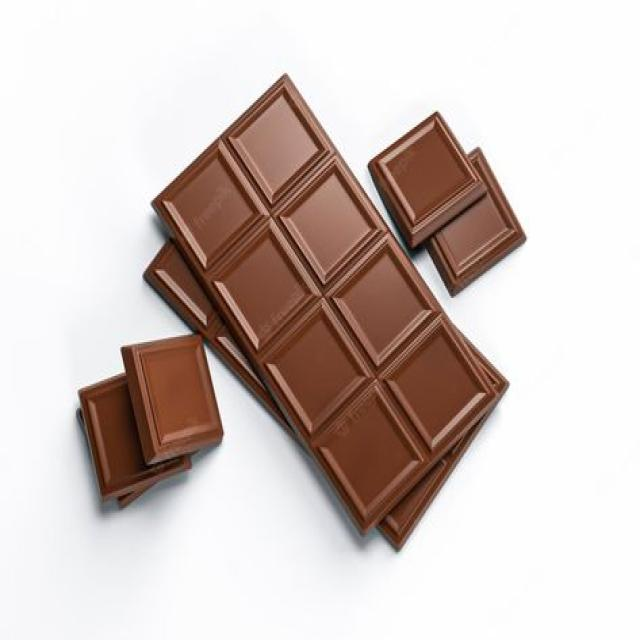Chocolate: (140, 69, 513, 557), (368, 109, 528, 297), (75, 334, 226, 511)
